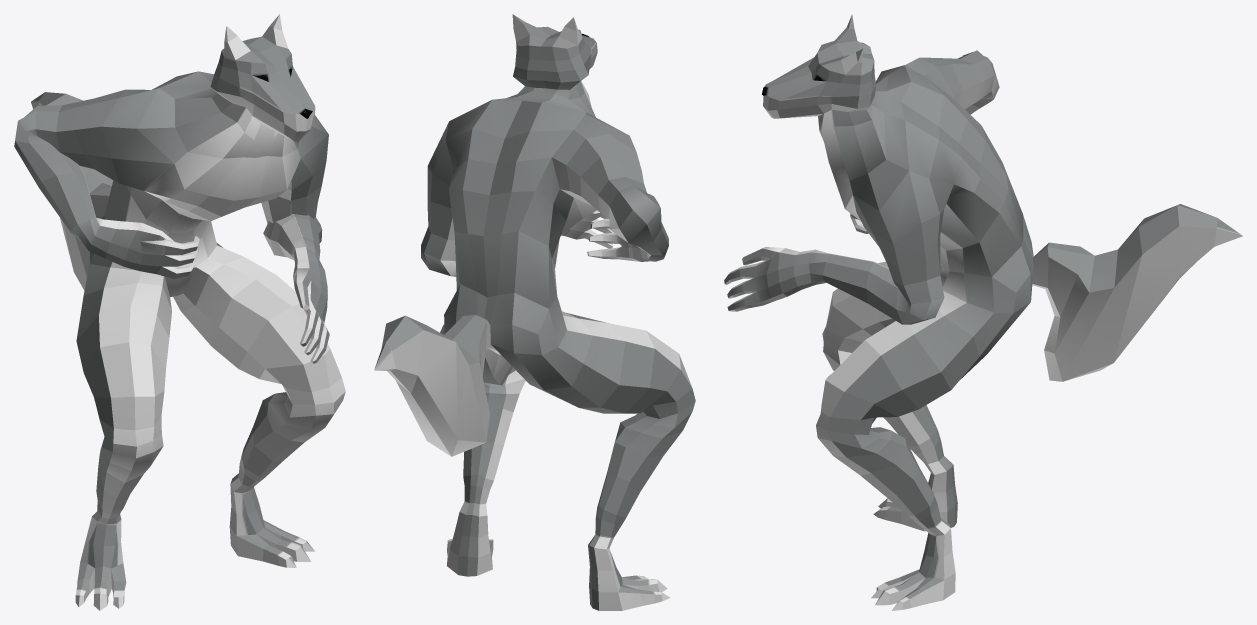
Rendered from WolfIdle_(29).obj.
3 renders of one model, left to right at view 1: azimuth 30°, elevation 25°; view 2: azimuth 150°, elevation 25°; view 3: azimuth 270°, elevation 25°, orthographic. The views are drawn at different scales.
Visible parts, largest first — view 1: Box001; view 2: Box001; view 3: Box001.
Part boxes in pixels (x1,y1,x2,y2): Box001: (14, 14, 345, 610); Box001: (374, 14, 695, 610); Box001: (724, 14, 1242, 610).
Bounding box in the file's own units: 67.9 × 134 × 115.
